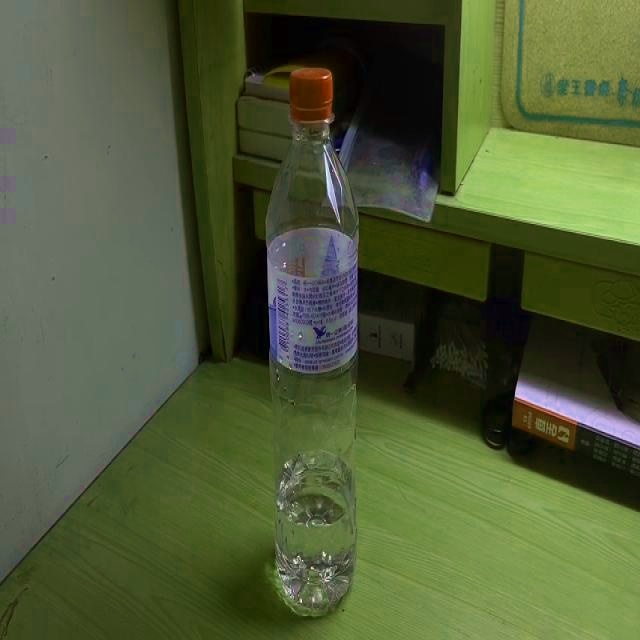Water: (266, 68, 358, 622)
